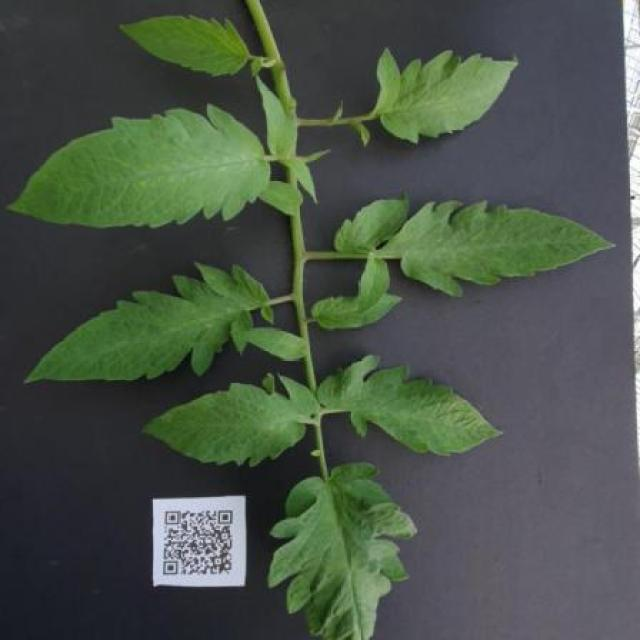Healthy: (334, 193, 617, 318), (8, 102, 272, 228), (22, 263, 275, 384), (265, 462, 418, 639), (318, 355, 508, 456), (138, 372, 319, 468), (373, 46, 517, 146), (119, 13, 248, 77)
